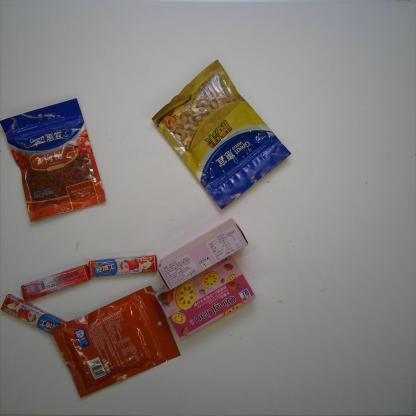Candy: (0, 293, 74, 342), (16, 262, 92, 302), (86, 254, 159, 279)
Dessert: (155, 252, 258, 341), (155, 218, 249, 292)
Dried Fruit: (150, 57, 292, 212), (47, 286, 183, 402), (0, 97, 105, 225)
